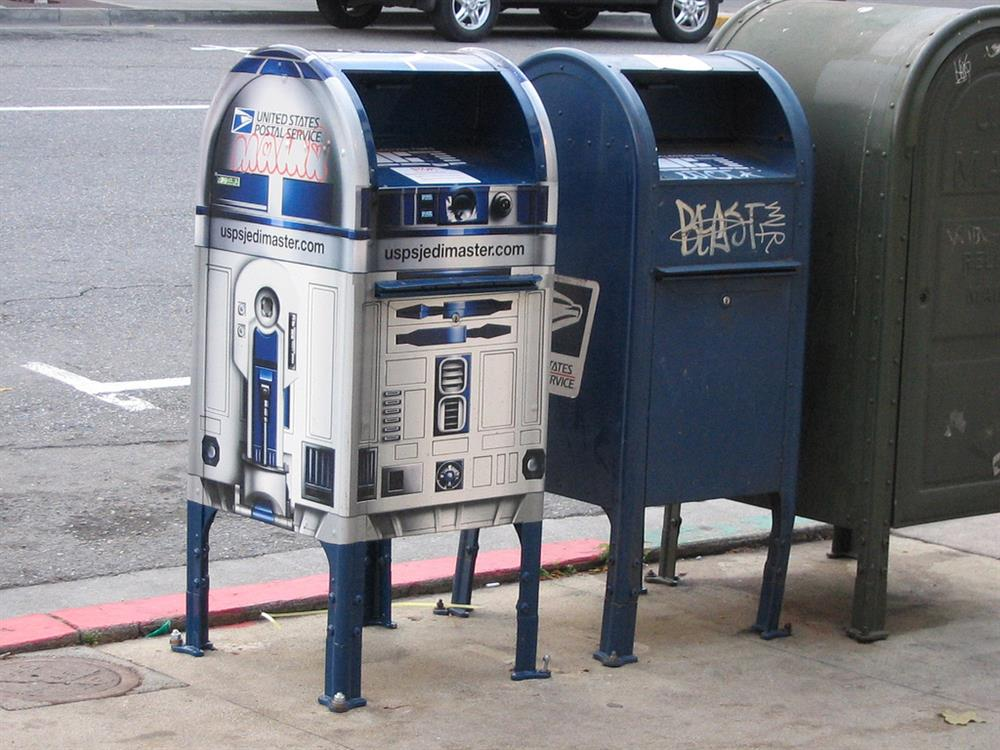R2D2_mailbox: (184, 43, 547, 543)
